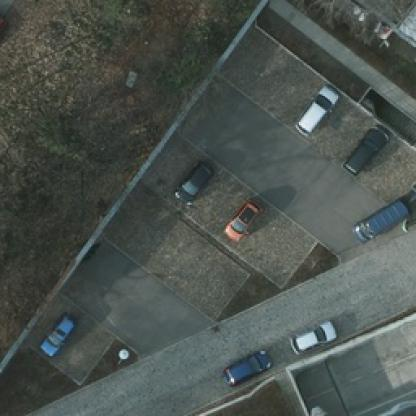car: (290, 86, 336, 133), (343, 124, 385, 172), (38, 310, 76, 358), (221, 348, 273, 382), (224, 195, 258, 241), (178, 164, 212, 202), (291, 318, 335, 344), (0, 8, 5, 59)
van: (351, 198, 406, 236)
